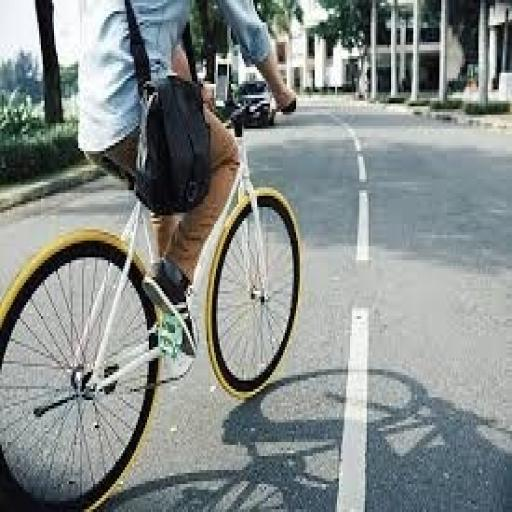cycling: (74, 0, 300, 358)
